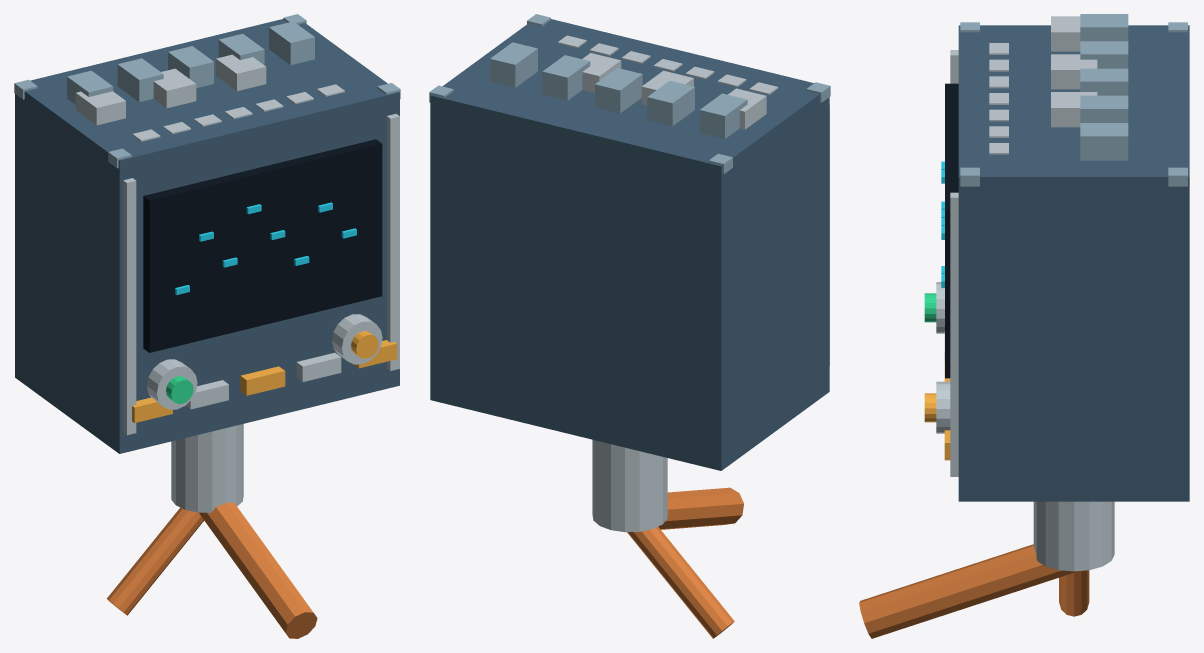
Rendered from 22_L73_SlurryTemperatureSensor.fbx.
The picture shows the model from 3 angles, left to right: view 1: azimuth 30°, elevation 25°; view 2: azimuth 150°, elevation 25°; view 3: azimuth 270°, elevation 25°; orthographic projection. The views are drawn at different scales.
Parts seen in each view (by area): view 1: SlurryTemperatureSensor; view 2: SlurryTemperatureSensor; view 3: SlurryTemperatureSensor.
Part boxes in pixels (x1,y1,x2,y2): SlurryTemperatureSensor: (14, 14, 400, 638); SlurryTemperatureSensor: (429, 14, 830, 638); SlurryTemperatureSensor: (859, 14, 1189, 638).
Size of the model in its own units: 62.72 by 112 by 57.19.
